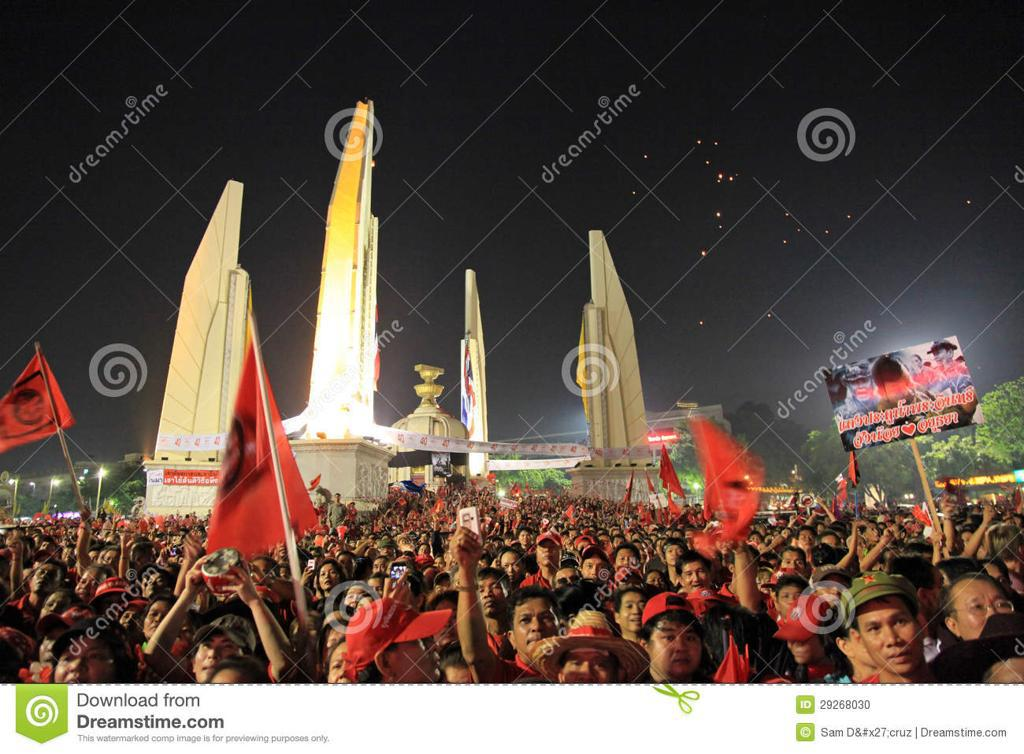face: (858, 600, 924, 674), (55, 638, 114, 703), (957, 587, 1013, 640), (650, 623, 702, 675), (196, 637, 244, 683), (515, 607, 558, 653), (564, 650, 611, 683), (40, 625, 75, 669), (328, 651, 372, 684), (144, 606, 178, 639), (479, 581, 508, 616), (434, 605, 458, 647), (980, 570, 1010, 602), (75, 573, 106, 601), (620, 599, 645, 632), (32, 566, 62, 593), (345, 590, 366, 628), (780, 588, 805, 618), (889, 378, 916, 405), (788, 631, 810, 664), (682, 568, 710, 593), (41, 595, 70, 619), (120, 607, 143, 636), (249, 564, 273, 591), (323, 632, 346, 659), (537, 541, 559, 567), (930, 576, 946, 611), (850, 378, 873, 402), (145, 576, 167, 599), (782, 554, 804, 576), (501, 559, 522, 582), (320, 568, 340, 591), (582, 558, 603, 579), (616, 552, 637, 571), (339, 559, 355, 580), (757, 574, 773, 595), (556, 575, 580, 588), (666, 547, 683, 565), (716, 538, 734, 555), (277, 537, 291, 557), (800, 533, 815, 550), (933, 351, 948, 367), (648, 576, 665, 588), (856, 539, 867, 557), (103, 554, 118, 567), (62, 550, 75, 565), (142, 552, 157, 565), (368, 583, 383, 596), (637, 546, 647, 564), (962, 535, 973, 551), (437, 581, 450, 594), (868, 527, 880, 541), (374, 562, 387, 573), (519, 532, 530, 545), (695, 540, 709, 550), (381, 547, 393, 558), (434, 559, 445, 570), (657, 542, 667, 554), (600, 538, 610, 549), (913, 359, 923, 370), (89, 552, 99, 562), (578, 543, 589, 552), (311, 552, 320, 562), (751, 536, 761, 545), (419, 548, 430, 556), (40, 542, 50, 550), (615, 539, 624, 547), (765, 536, 774, 544), (280, 569, 287, 579), (506, 536, 513, 546), (818, 525, 825, 535), (782, 531, 790, 539), (906, 522, 913, 530), (879, 517, 887, 524), (570, 533, 577, 540), (686, 533, 693, 540), (401, 539, 408, 545), (422, 535, 427, 543), (651, 538, 657, 544), (674, 533, 681, 538), (370, 537, 376, 542)
